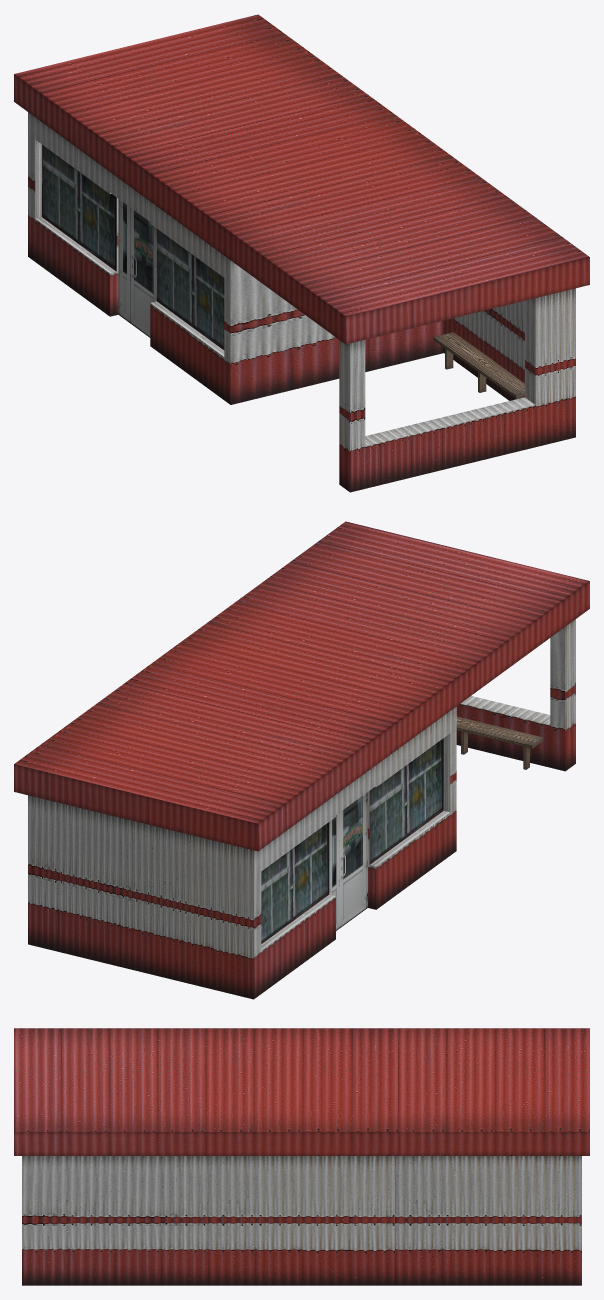
The model's file is r402_ishim_larek_ost.FBX.
The picture shows the model from 3 angles, top to bottom: view 1: azimuth 30°, elevation 25°; view 2: azimuth 150°, elevation 25°; view 3: azimuth 270°, elevation 25°; orthographic projection. The views are drawn at different scales.
Visible parts, largest first — view 1: r402_ishim_larek_ost; view 2: r402_ishim_larek_ost; view 3: r402_ishim_larek_ost.
Boxes of the visible parts, bbox=[...] form: r402_ishim_larek_ost: bbox=[14, 14, 589, 492]; r402_ishim_larek_ost: bbox=[14, 521, 589, 999]; r402_ishim_larek_ost: bbox=[14, 1028, 589, 1285].
Bounding box in the file's own units: 433 × 1017 × 309.
